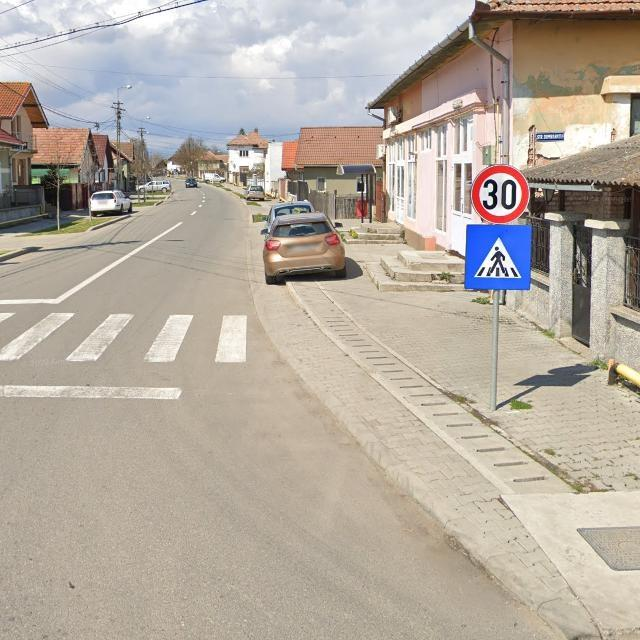forb_speed_over_30: (472, 165, 530, 224)
info_crosswalk: (465, 223, 532, 291)
